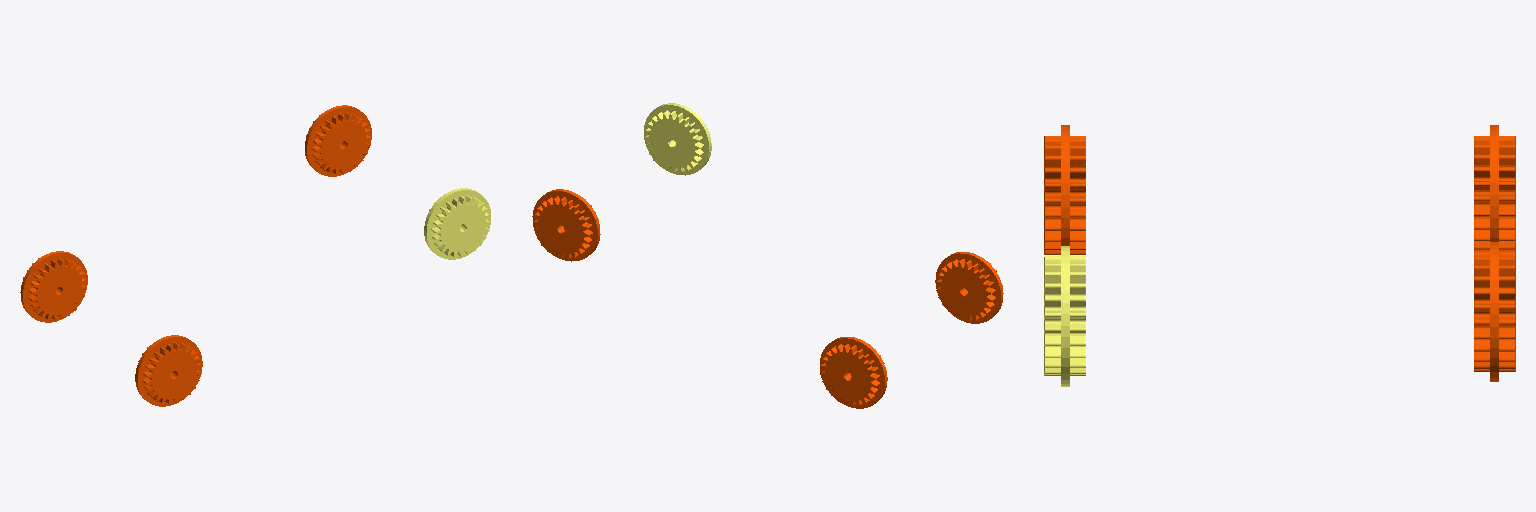
--- Facts derived from the render (not from the file) ---
The picture shows the robot from 3 angles, left to right: view 1: azimuth 30°, elevation 25°; view 2: azimuth 150°, elevation 25°; view 3: azimuth 270°, elevation 25°; orthographic projection.
Model drok3_description2 with 30 links and 29 joints (28 continuous, 1 fixed), rooted at base_link, posed every joint at zero.
Visible links, largest first — view 1: R1_link, L1_link, L3_link, R3_link; view 2: R3_link, L1_link, L3_link, R1_link; view 3: R3_link, L3_link, R1_link, L1_link.
Link boxes in pixels (x1=…): R1_link: x1=135, y1=335, x2=202, y2=406; L1_link: x1=20, y1=251, x2=87, y2=322; L3_link: x1=305, y1=105, x2=371, y2=176; R3_link: x1=424, y1=188, x2=490, y2=259; R3_link: x1=644, y1=103, x2=711, y2=175; L1_link: x1=820, y1=337, x2=887, y2=408; L3_link: x1=532, y1=189, x2=600, y2=261; R1_link: x1=935, y1=252, x2=1003, y2=323; R3_link: x1=1044, y1=246, x2=1085, y2=386; L3_link: x1=1474, y1=242, x2=1515, y2=381; R1_link: x1=1044, y1=125, x2=1085, y2=254; L1_link: x1=1474, y1=125, x2=1515, y2=252.
Bounding box of the posed robot: 0.9246 × 0.5694 × 0.3609 m (x, y, z).
Meshes: 7 distinct files referenced, 4 mesh visuals loaded (4 binary STL); not drawn: 3 (reference not matched to a file when rendering).

The robot description file, URDF, robot "drok3_description2":
<?xml version="1.0" encoding="utf-8"?>
<!-- This URDF was automatically created by SolidWorks to URDF Exporter! Originally created by Stephen Brawner ([email redacted]) 
     Commit Version: 1.6.0-1-g15f4949  Build Version: 1.6.7594.29634
     For more information, please see http://wiki.ros.org/sw_urdf_exporter -->
<robot
  name="drok3_description2">
  
  <link
    name="base_link">
    <inertial>
      <origin
        xyz="0.0916307721495936 -0.000335907486689213 0.0569327313017182"
        rpy="0 0 0" />
      <mass
        value="38.3049580066646" />
      <inertia
        ixx="0.189675133128325"
        ixy="-6.87158011192175E-05"
        ixz="-0.111395385918992"
        iyy="0.808757796453613"
        iyz="-7.34722853353462E-05"
        izz="0.813726568476578" />
    </inertial>
    <visual>
      <origin
        xyz="0 0 0"
        rpy="0 0 0" />
      <geometry>
        <mesh
          filename="package://drok3_description2/meshes/base_link.STL" />
      </geometry>
      <material
        name="">
        <color
          rgba="0.298039215686275 0.298039215686275 0.298039215686275 1" />
      </material>
    </visual>
    <!--<collision>
      <origin
        xyz="0 0 0"
        rpy="0 0 0" />
      <geometry>
        <mesh
          filename="package://drok3_description2/meshes/base_link.STL" />
      </geometry>
    </collision>-->
  </link>

  <link
    name="R1_link">
    <inertial>
      <origin
        xyz="-2.97278207574136E-06 0 -2.08206009358336E-06"
        rpy="0 0 0" />
      <mass
        value="0.697502716828587" />
      <inertia
        ixx="0.00107179989446096"
        ixy="-3.17556586931068E-18"
        ixz="-1.07013112858152E-08"
        iyy="0.00188983973588254"
        iyz="9.0339996868056E-19"
        izz="0.00107180767895577" />
    </inertial>
    <visual>
      <origin
        xyz="0 0 0"
        rpy="0 0 0" />
      <geometry>
        <mesh
          filename="package://drok3_description2/meshes/R1_link.STL" />
      </geometry>
      <material
        name="">
        <color
          rgba="1.0 0.4 0.0308039215686275 0" />
      </material>
    </visual>
    <collision>
      <origin
        xyz="0 0 0"
        rpy="0 0 0" />
      <geometry>
        <mesh
          filename="package://drok3_description2/meshes/R1_link.STL" />
      </geometry>
    </collision>
  </link>
  <joint
    name="R1_link_joint"
    type="continuous">
    <origin
      xyz="-0.27424 -0.25972 -0.028"
      rpy="0 0 0" />
    <parent
      link="base_link" />
    <child
      link="R1_link" />
    <axis
      xyz="0 1 0" />
  </joint>
  <link
    name="R2_link">
    <inertial>
      <origin
        xyz="-3.60518028585943E-06 0 -2.08206009358336E-06"
        rpy="0 0 0" />
      <mass
        value="0.697502716828588" />
      <inertia
        ixx="0.00107179270224566"
        ixy="-3.20129434385429E-18"
        ixz="-2.60812953021254E-09"
        iyy="0.00188983973588254"
        iyz="9.59223116284526E-19"
        izz="0.00107181487117107" />
    </inertial>
    <visual>
      <origin
        xyz="0 0 0"
        rpy="0 0 0" />
      <geometry>
        <mesh
          filename="package://drok3_description2/meshes/R2_link.STL" />
      </geometry>
      <material
        name="">
        <color
          rgba="1.0 0.4 0.0380039215686275 1" />
      </material>
    </visual>
    <collision>
      <origin
        xyz="0 0 0"
        rpy="0 0 0" />
      <geometry>
        <mesh
          filename="package://drok3_description2/meshes/R2_link.STL" />
      </geometry>
    </collision>
  </link>
  <joint
    name="R2_link_joint"
    type="continuous">
    <origin
      xyz="0.27576 -0.25972 -0.028"
      rpy="0 0 0" />
    <parent
      link="base_link" />
    <child
      link="R2_link" />
    <axis
      xyz="0 1 0" />
  </joint>
  <link
    name="R3_link">
    <inertial>
      <origin
        xyz="3.24700269704881E-06 -5.55111512312578E-17 1.62153661337205E-06"
        rpy="0 0 0" />
      <mass
        value="0.697502716828588" />
      <inertia
        ixx="0.00107179694558754"
        ixy="-3.07511556235849E-18"
        ixz="-9.10311589437715E-09"
        iyy="0.00188983973588254"
        iyz="7.7907126344076E-19"
        izz="0.00107181062782919" />
    </inertial>
    <visual>
      <origin
        xyz="0 0 0"
        rpy="0 0 0" />
      <geometry>
        <mesh
          filename="package://drok3_description2/meshes/R3_link.STL" />
      </geometry>
      <material
        name="">
        <color
          rgba="102 51 0.498039215686275 1" />
      </material>
    </visual>
    <collision>
      <origin
        xyz="0 0 0"
        rpy="0 0 0" />
      <geometry>
        <mesh
          filename="package://drok3_description2/meshes/R3_link.STL" />
      </geometry>
    </collision>
  </link>
  <joint
    name="R3_link_joint"
    type="continuous">
    <origin
      xyz="0.48054 -0.25972 0.16296"
      rpy="0 0 0" />
    <parent
      link="base_link" />
    <child
      link="R3_link" />
    <axis
      xyz="0 1 0" />
  </joint>
  <link
    name="L1_link">
    <inertial>
      <origin
        xyz="-3.60518028584556E-06 -1.11022302462516E-16 -2.08206009358336E-06"
        rpy="0 0 0" />
      <mass
        value="0.697502716828587" />
      <inertia
        ixx="0.00107179270224566"
        ixy="-3.16860373019229E-18"
        ixz="-2.6081295301747E-09"
        iyy="0.00188983973588254"
        iyz="7.92650267045416E-19"
        izz="0.00107181487117107" />
    </inertial>
    <visual>
      <origin
        xyz="0 0 0"
        rpy="0 0 0" />
      <geometry>
        <mesh
          filename="package://drok3_description2/meshes/L1_link.STL" />
      </geometry>
      <material
        name="">
        <color
          rgba="1.0 0.4 0.0308039215686275 1" />
      </material>
    </visual>
    <collision>
      <origin
        xyz="0 0 0"
        rpy="0 0 0" />
      <geometry>
        <mesh
          filename="package://drok3_description2/meshes/L1_link.STL" />
      </geometry>
    </collision>
  </link>
  <joint
    name="L1_link_joint"
    type="continuous">
    <origin
      xyz="-0.27424 0.25972 -0.028"
      rpy="0 0 0" />
    <parent
      link="base_link" />
    <child
      link="L1_link" />
    <axis
      xyz="0 1 0" />
  </joint>
  <link
    name="L2_link">
    <inertial>
      <origin
        xyz="-3.60518028585943E-06 -1.11022302462516E-16 -2.08206009358336E-06"
        rpy="0 0 0" />
      <mass
        value="0.697502716828589" />
      <inertia
        ixx="0.00107179270224566"
        ixy="-3.18775432759348E-18"
        ixz="-2.6081295302701E-09"
        iyy="0.00188983973588254"
        iyz="8.03792722455923E-19"
        izz="0.00107181487117107" />
    </inertial>
    <visual>
      <origin
        xyz="0 0 0"
        rpy="0 0 0" />
      <geometry>
        <mesh
          filename="package://drok3_description2/meshes/L2_link.STL" />
      </geometry>
      <material
        name="">
        <color
          rgba="1.0 0.4 0.0308039215686275 1" />
      </material>
    </visual>
    <collision>
      <origin
        xyz="0 0 0"
        rpy="0 0 0" />
      <geometry>
        <mesh
          filename="package://drok3_description2/meshes/L2_link.STL" />
      </geometry>
    </collision>
  </link>
  <joint
    name="L2_link_joint"
    type="continuous">
    <origin
      xyz="0.27576 0.25972 -0.028"
      rpy="0 0 0" />
    <parent
      link="base_link" />
    <child
      link="L2_link" />
    <axis
      xyz="0 1 0" />
  </joint>
  <link
    name="L3_link">
    <inertial>
      <origin
        xyz="-3.50122690040422E-06 -2.22044604925031E-16 9.55938123270439E-07"
        rpy="0 0 0" />
      <mass
        value="0.697502716828588" />
      <inertia
        ixx="0.00107179397947648"
        ixy="-3.27890477552922E-18"
        ixz="5.78669645348872E-09"
        iyy="0.00188983973588254"
        iyz="7.58660421249286E-19"
        izz="0.00107181359394025" />
    </inertial>
    <visual>
      <origin
        xyz="0 0 0"
        rpy="0 0 0" />
      <geometry>
        <mesh
          filename="package://drok3_description2/meshes/L3_link.STL" />
      </geometry>
      <material
        name="">
        <color
          rgba="1.0 0.4 0.0308039215686275 1" />
      </material>
    </visual>
    <collision>
      <origin
        xyz="0 0 0"
        rpy="0 0 0" />
      <geometry>
        <mesh
          filename="package://drok3_description2/meshes/L3_link.STL" />
      </geometry>
    </collision>
  </link>
  <joint
    name="L3_link_joint"
    type="continuous">
    <origin
      xyz="0.46841 0.25972 0.16296"
      rpy="0 0 0" />
    <parent
      link="base_link" />
    <child
      link="L3_link" />
    <axis
      xyz="0 1 0" />
  </joint>

<gazebo>
  <plugin name="skid_steer_drive_controller" filename="libgazebo_ros_skid_steer_drive.so">
    <updateRate>100.0</updateRate>
    <robotNamespace>/</robotNamespace>
    <leftFrontJoint>L2_link_joint</leftFrontJoint>
    <rightFrontJoint>R2_link_joint</rightFrontJoint>
    <leftRearJoint>L1_link_joint</leftRearJoint>
    <rightRearJoint>R1_link_joint</rightRearJoint>
    <wheelSeparation>0.55</wheelSeparation>
    <wheelDiameter>0.170</wheelDiameter>
    <robotBaseFrame>base_link</robotBaseFrame>
    <torque>10</torque>
    <topicName>cmd_vel</topicName>
    <broadcastTF>true</broadcastTF>
  </plugin>
</gazebo>

<gazebo>
  <plugin name="skid_steer_drive_controller" filename="libgazebo_ros_skid_steer_drive.so">
    <updateRate>100.0</updateRate>
    <robotNamespace>/</robotNamespace>
    <leftFrontJoint>l2_link_joint</leftFrontJoint>
    <rightFrontJoint>r2_link_joint</rightFrontJoint>
    <leftRearJoint>l1_link_joint</leftRearJoint>
    <rightRearJoint>r1_link_joint</rightRearJoint>
    <wheelSeparation>0.55</wheelSeparation>
    <wheelDiameter>0.170</wheelDiameter>
    <robotBaseFrame>base_link</robotBaseFrame>
    <torque>10</torque>
    <topicName>cmd_vel</topicName>
    <broadcastTF>false</broadcastTF>
  </plugin>
</gazebo>

<gazebo>
  <plugin name="skid_steer_drive_controller" filename="libgazebo_ros_skid_steer_drive.so">
    <updateRate>100.0</updateRate>
    <robotNamespace>/</robotNamespace>
    <leftFrontJoint>L3_link_joint</leftFrontJoint>
    <rightFrontJoint>R3_link_joint</rightFrontJoint>
    <leftRearJoint>l4_link_joint</leftRearJoint>
    <rightRearJoint>r4_link_joint</rightRearJoint>
    <wheelSeparation>0.55</wheelSeparation>
    <wheelDiameter>0.170</wheelDiameter>
    <robotBaseFrame>base_link</robotBaseFrame>
    <torque>10</torque>
    <topicName>cmd_vel</topicName>
    <broadcastTF>false</broadcastTF>
  </plugin>
</gazebo>
<gazebo>
  <plugin name="skid_steer_drive_controller" filename="libgazebo_ros_skid_steer_drive.so">
    <updateRate>100.0</updateRate>
    <robotNamespace>/</robotNamespace>
    <leftFrontJoint>l6_link_joint</leftFrontJoint>
    <rightFrontJoint>r6_link_joint</rightFrontJoint>
    <leftRearJoint>l5_link_joint</leftRearJoint>
    <rightRearJoint>r5_link_joint</rightRearJoint>
    <wheelSeparation>0.55</wheelSeparation>
    <wheelDiameter>0.170</wheelDiameter>
    <robotBaseFrame>base_link</robotBaseFrame>
    <torque>10</torque>
    <topicName>cmd_vel</topicName>
    <broadcastTF>false</broadcastTF>
  </plugin>
</gazebo>
<gazebo>
  <plugin name="skid_steer_drive_controller" filename="libgazebo_ros_skid_steer_drive.so">
    <updateRate>100.0</updateRate>
    <robotNamespace>/</robotNamespace>
    <leftFrontJoint>l7_link_joint</leftFrontJoint>
    <rightFrontJoint>r7_link_joint</rightFrontJoint>
    <leftRearJoint>l8_link_joint</leftRearJoint>
    <rightRearJoint>r8_link_joint</rightRearJoint>
    <wheelSeparation>0.55</wheelSeparation>
    <wheelDiameter>0.170</wheelDiameter>
    <robotBaseFrame>base_link</robotBaseFrame>
    <torque>10</torque>
    <topicName>cmd_vel</topicName>
    <broadcastTF>false</broadcastTF>
  </plugin>
</gazebo>

<gazebo>
  <plugin name="skid_steer_drive_controller" filename="libgazebo_ros_skid_steer_drive.so">
    <updateRate>100.0</updateRate>
    <robotNamespace>/</robotNamespace>
    <leftFrontJoint>l9_link_joint</leftFrontJoint>
    <rightFrontJoint>r9_link_joint</rightFrontJoint>
    <leftRearJoint>l10_link_joint</leftRearJoint>
    <rightRearJoint>r10_link_joint</rightRearJoint>
    <wheelSeparation>0.55</wheelSeparation>
    <wheelDiameter>0.170</wheelDiameter>
    <robotBaseFrame>base_link</robotBaseFrame>
    <torque>10</torque>
    <topicName>cmd_vel</topicName>
    <broadcastTF>false</broadcastTF>
  </plugin>
</gazebo>


<gazebo>
  <plugin name="skid_steer_drive_controller" filename="libgazebo_ros_skid_steer_drive.so">
    <updateRate>100.0</updateRate>
    <robotNamespace>/</robotNamespace>
    <leftFrontJoint>l12_link_joint</leftFrontJoint>
    <rightFrontJoint>r12_link_joint</rightFrontJoint>
    <leftRearJoint>l11_link_joint</leftRearJoint>
    <rightRearJoint>r11_link_joint</rightRearJoint>
    <wheelSeparation>0.55</wheelSeparation>
    <wheelDiameter>0.170</wheelDiameter>
    <robotBaseFrame>base_link</robotBaseFrame>
    <torque>10</torque>
    <topicName>cmd_vel</topicName>
    <broadcastTF>false</broadcastTF>
  </plugin>
</gazebo>












 <link
    name="r1_link">
    <inertial>
      <origin
        xyz="-2.77278207574136E-06 0 -2.08206009358336E-06"
        rpy="0 0 0" />
      <mass
        value="0.697502716828587" />
      <inertia
        ixx="0.00107179989446096"
        ixy="-3.17556586931068E-18"
        ixz="-1.07013112858152E-08"
        iyy="0.00188983973588254"
        iyz="9.0339996868056E-19"
        izz="0.00107180767895577" />
    </inertial>
    <!--<visual>
      <origin
        xyz="0 0 0"
        rpy="0 0 0" />
      <geometry>
        <mesh
          filename="package://drok3_description2/meshes/R1_link.STL" />
      </geometry>
      <material
        name="red">
        <color
          rgba="1.0 1.0 0.0308039215686275 0" />
      </material>
    </visual>-->
    <collision>
      <origin
        xyz="0 0 0"
        rpy="0 0 0" />
      <geometry>
        <mesh
          filename="package://drok3_description2/meshes/R1_link.STL" />
      </geometry>
    </collision>
  </link>
  <joint
    name="r1_link_joint"
    type="continuous">
    <origin
      xyz="-0.07424 -0.25972 -0.028"
      rpy="0 0 0" />
    <parent
      link="base_link" />
    <child
      link="r1_link" />
    <axis
      xyz="0 1 0" />
  </joint>

<link
    name="r2_link">
    <inertial>
      <origin
        xyz="-2.57278207574136E-06 0 -2.08206009358336E-06"
        rpy="0 0 0" />
      <mass
        value="0.697502716828587" />
      <inertia
        ixx="0.00107179989446096"
        ixy="-3.17556586931068E-18"
        ixz="-1.07013112858152E-08"
        iyy="0.00188983973588254"
        iyz="9.0339996868056E-19"
        izz="0.00107180767895577" />
    </inertial>
    <!--<visual>
      <origin
        xyz="0 0 0"
        rpy="0 0 0" />
      <geometry>
        <mesh
          filename="package://drok3_description2/meshes/R1_link.STL" />
      </geometry>
      <material
        name="">
        <color
          rgba="1.0 0.4 0.0308039215686275 1" />
      </material>
    </visual>-->
    <collision>
      <origin
        xyz="0 0 0"
        rpy="0 0 0" />
      <geometry>
        <mesh
          filename="package://drok3_description2/meshes/R1_link.STL" />
      </geometry>
    </collision>
  </link>
  <joint
    name="r2_link_joint"
    type="continuous">
    <origin
      xyz="0.12576 -0.25972 -0.028"
      rpy="0 0 0" />
    <parent
      link="base_link" />
    <child
      link="r2_link" />
    <axis
      xyz="0 1 0" />
  </joint>








<link
    name="l1_link">
    <inertial>
      <origin
        xyz="-3.40518028584556E-06 -1.11022302462516E-16 -2.08206009358336E-06"
        rpy="0 0 0" />
      <mass
        value="0.697502716828587" />
      <inertia
        ixx="0.00107179270224566"
        ixy="-3.16860373019229E-18"
        ixz="-2.6081295301747E-09"
        iyy="0.00188983973588254"
        iyz="7.92650267045416E-19"
        izz="0.00107181487117107" />
    </inertial>
    <!--<visual>
      <origin
        xyz="0 0 0"
        rpy="0 0 0" />
      <geometry>
        <mesh
          filename="package://drok3_description2/meshes/L1_link.STL" />
      </geometry>
      <material
        name="">
        <color
          rgba="1.0 0.4 0.0308039215686275 0" />
      </material>
    </visual>-->
    <collision>
      <origin
        xyz="0 0 0"
        rpy="0 0 0" />
      <geometry>
        <mesh
          filename="package://drok3_description2/meshes/L1_link.STL" />
      </geometry>
    </collision>
  </link>
  <joint
    name="l1_link_joint"
    type="continuous">
    <origin
      xyz="-0.07424 0.25972 -0.028"
      rpy="0 0 0" />
    <parent
      link="base_link" />
    <child
      link="l1_link" />
    <axis
      xyz="0 1 0" />
  </joint>

<link
    name="l2_link">
    <inertial>
      <origin
        xyz="-3.20518028584556E-06 -1.11022302462516E-16 -2.08206009358336E-06"
        rpy="0 0 0" />
      <mass
        value="0.697502716828587" />
      <inertia
        ixx="0.00107179270224566"
        ixy="-3.16860373019229E-18"
        ixz="-2.6081295301747E-09"
        iyy="0.00188983973588254"
        iyz="7.92650267045416E-19"
        izz="0.00107181487117107" />
    </inertial>
    <!--<visual>
      <origin
        xyz="0 0 0"
        rpy="0 0 0" />
      <geometry>
        <mesh
          filename="package://drok3_description2/meshes/L1_link.STL" />
      </geometry>
      <material
        name="">
        <color
          rgba="1.0 0.4 0.0308039215686275 0" />
      </material>
    </visual>-->
    <collision>
      <origin
        xyz="0 0 0"
        rpy="0 0 0" />
      <geometry>
        <mesh
          filename="package://drok3_description2/meshes/L1_link.STL" />
      </geometry>
    </collision>
  </link>
  <joint
    name="l2_link_joint"
    type="continuous">
    <origin
      xyz="0.12576 0.25972 -0.028"
      rpy="0 0 0" />
    <parent
      link="base_link" />
    <child
      link="l2_link" />
    <axis
      xyz="0 1 0" />
  </joint>








<link
    name="r4_link">
    <inertial>
      <origin
        xyz="-3.49518028585943E-06 0 -4.08428738963028E-07"
        rpy="0 0 0" />
      <mass
        value="0.697502716828588" />
      <inertia
        ixx="0.00107179270224566"
        ixy="-3.20129434385429E-18"
        ixz="-2.60812953021254E-09"
        iyy="0.00188983973588254"
        iyz="9.59223116284526E-19"
        izz="0.00107181487117107" />
    </inertial>
    <!--<visual>
      <origin
        xyz="0 0 0"
        rpy="0 0 0" />
      <geometry>
        <mesh
          filename="package://drok3_description2/meshes/R2_link.STL" />
      </geometry>
      <material
        name="">
        <color
          rgba="1.0 0.4 0.0380039215686275 0" />
      </material>
    </visual>-->
    <collision>
      <origin
        xyz="0 0 0"
        rpy="0 0 0" />
      <geometry>
        <mesh
          filename="package://drok3_description2/meshes/R2_link.STL" />
      </geometry>
    </collision>
  </link>
  <joint
    name="r4_link_joint"
    type="continuous">
    <origin
      xyz="0.38576 -0.25972 0.072"
      rpy="0 0 0" />
    <parent
      link="base_link" />
    <child
      link="r4_link" />
    <axis
      xyz="0 1 0" />
  </joint>




<link
    name="l4_link">
    <inertial>
      <origin
        xyz="-3.49518028585943E-06 -1.11022302462516E-16 -4.0842873894915E-07"
        rpy="0 0 0" />
      <mass
        value="0.697502716828589" />
      <inertia
        ixx="0.00107179270224566"
        ixy="-3.18775432759348E-18"
        ixz="-2.6081295302701E-09"
        iyy="0.00188983973588254"
        iyz="8.03792722455923E-19"
        izz="0.00107181487117107" />
    </inertial>
    <!--<visual>
      <origin
        xyz="0 0 0"
        rpy="0 0 0" />
      <geometry>
        <mesh
          filename="package://drok3_description2/meshes/L2_link.STL" />
      </geometry>
      <material
        name="">
        <color
          rgba="1.0 0.4 0.0308039215686275 1" />
      </material>
    </visual>-->
    <collision>
      <origin
        xyz="0 0 0"
        rpy="0 0 0" />
      <geometry>
        <mesh
          filename="package://drok3_description2/meshes/L2_link.STL" />
      </geometry>
    </collision>
  </link>
  <joint
    name="l4_link_joint"
    type="continuous">
    <origin
      xyz="0.38576 0.25972 0.072"
      rpy="0 0 0" />
    <parent
      link="base_link" />
    <child
      link="l4_link" />
    <axis
      xyz="0 1 0" />
  </joint>






<link
    name="r5_link">
    <inertial>
      <origin
        xyz="-3.54518028585943E-06 0 -4.13428738963028E-07"
        rpy="0 0 0" />
      <mass
        value="0.697502716828588" />
      <inertia
        ixx="0.00107179270224566"
        ixy="-3.20129434385429E-18"
        ixz="-2.60812953021254E-09"
        iyy="0.00188983973588254"
        iyz="9.59223116284526E-19"
        izz="0.00107181487117107" />
    </inertial>
    <!--<visual>
      <origin
        xyz="0 0 0"
        rpy="0 0 0" />
      <geometry>
        <mesh
          filename="package://drok3_description2/meshes/R2_link.STL" />
      </geometry>
      <material
        name="">
        <color
          rgba="1.0 0.4 0.0380039215686275 1" />
      </material>
    </visual>-->
    <collision>
      <origin
        xyz="0 0 0"
        rpy="0 0 0" />
      <geometry>
        <mesh
          filename="package://drok3_description2/meshes/R2_link.STL" />
      </geometry>
    </collision>
  </link>
  <joint
    name="r5_link_joint"
    type="continuous">
    <origin
      xyz="0.33576 -0.25972 0.022"
      rpy="0 0 0" />
    <parent
      link="base_link" />
    <child
      link="r5_link" />
    <axis
      xyz="0 1 0" />
  </joint>




<link
    name="l5_link">
    <inertial>
      <origin
        xyz="-3.54518028585943E-06 -1.11022302462516E-16 -4.1342873894915E-07"
        rpy="0 0 0" />
      <mass
        value="0.697502716828589" />
      <inertia
        ixx="0.00107179270224566"
        ixy="-3.18775432759348E-18"
        ixz="-2.6081295302701E-09"
        iyy="0.00188983973588254"
        iyz="8.03792722455923E-19"
        izz="0.00107181487117107" />
    </inertial>
    <!--<visual>
      <origin
        xyz="0 0 0"
        rpy="0 0 0" />
      <geometry>
        <mesh
          filename="package://drok3_description2/meshes/L2_link.STL" />
      </geometry>
      <material
        name="">
        <color
          rgba="1.0 0.4 0.0308039215686275 1" />
      </material>
    </visual>-->
    <collision>
      <origin
        xyz="0 0 0"
        rpy="0 0 0" />
      <geometry>
        <mesh
          filename="package://drok3_description2/meshes/L2_link.STL" />
      </geometry>
    </collision>
  </link>
  <joint
    name="l5_link_joint"
    type="continuous">
    <origin
      xyz="0.33576 0.25972 0.022"
      rpy="0 0 0" />
    <parent
      link="base_link" />
    <child
      link="l5_link" />
    <axis
      xyz="0 1 0" />
  </joint>


<link
    name="r6_link">
    <inertial>
      <origin
        xyz="-3.44518028585943E-06 0 -4.03428738963028E-07"
        rpy="0 0 0" />
      <mass
        value="0.697502716828588" />
      <inertia
        ixx="0.00107179270224566"
        ixy="-3.20129434385429E-18"
        ixz="-2.60812953021254E-09"
        iyy="0.00188983973588254"
        iyz="9.59223116284526E-19"
        izz="0.00107181487117107" />
    </inertial>
    <!--<visual>
      <origin
        xyz="0 0 0"
        rpy="0 0 0" />
      <geometry>
        <mesh
          filename="package://drok3_description2/meshes/R2_link.STL" />
      </geometry>
      <material
        name="">
        <color
          rgba="1.0 0.4 0.0380039215686275 1" />
      </material>
    </visual>-->
    <collision>
      <origin
        xyz="0 0 0"
        rpy="0 0 0" />
      <geometry>
        <mesh
          filename="package://drok3_description2/meshes/R2_link.STL" />
      </geometry>
    </collision>
  </link>
  <joint
    name="r6_link_joint"
    type="continuous">
    <origin
      xyz="0.43576 -0.25972 0.122"
      rpy="0 0 0" />
    <parent
      link="base_link" />
    <child
      link="r6_link" />
    <axis
      xyz="0 1 0" />
  </joint>




<link
    name="l6_link">
    <inertial>
      <origin
        xyz="-3.44518028585943E-06 -1.11022302462516E-16 -4.0342873894915E-07"
        rpy="0 0 0" />
      <mass
        value="0.697502716828589" />
      <inertia
        ixx="0.00107179270224566"
        ixy="-3.18775432759348E-18"
        ixz="-2.6081295302701E-09"
        iyy="0.00188983973588254"
        iyz="8.03792722455923E-19"
        izz="0.00107181487117107" />
    </inertial>
    <!--<visual>
      <origin
        xyz="0 0 0"
        rpy="0 0 0" />
      <geometry>
        <mesh
          filename="package://drok3_description2/meshes/L2_link.STL" />
      </geometry>
      <material
        name="">
        <color
          rgba="1.0 0.4 0.0308039215686275 1" />
      </material>
    </visual>-->
    <collision>
      <origin
        xyz="0 0 0"
        rpy="0 0 0" />
      <geometry>
        <mesh
          filename="package://drok3_description2/meshes/L2_link.STL" />
      </geometry>
    </collision>
  </link>
  <joint
    name="l6_link_joint"
    type="continuous">
    <origin
      xyz="0.43576 0.25972 0.122"
      rpy="0 0 0" />
    <parent
      link="base_link" />
    <child
      link="l6_link" />
    <axis
      xyz="0 1 0" />
  </joint>




<link
    name="r7_link">
    <inertial>
      <origin
        xyz="-2.72278207574136E-06 0 -2.08206009358336E-06"
        rpy="0 0 0" />
      <mass
        value="0.697502716828587" />
      <inertia
        ixx="0.00107179989446096"
        ixy="-3.17556586931068E-18"
        ixz="-1.07013112858152E-08"
        iyy="0.00188983973588254"
        iyz="9.0339996868056E-19"
        izz="0.00107180767895577" />
    </inertial>
    <!--<visual>
      <origin
        xyz="0 0 0"
        rpy="0 0 0" />
      <geometry>
        <mesh
          filename="package://drok3_description2/meshes/R1_link.STL" />
      </geometry>
      <material
        name="red">
        <color
          rgba="1.0 1.0 0.0308039215686275 0" />
      </material>
    </visual>-->
    <collision>
      <origin
        xyz="0 0 0"
        rpy="0 0 0" />
      <geometry>
        <mesh
          filename="package://drok3_description2/meshes/R1_link.STL" />
      </geometry>
    </collision>
  </link>
  <joint
    name="r7_link_joint"
    type="continuous">
    <origin
      xyz="-0.02424 -0.25972 -0.028"
      rpy="0 0 0" />
    <parent
      link="base_link" />
    <child
      link="r7_link" />
    <axis
      xyz="0 1 0" />
  </joint>

<link
    name="r8_link">
    <inertial>
      <origin
        xyz="-2.82278207574136E-06 0 -2.08206009358336E-06"
        rpy="0 0 0" />
      <mass
        value="0.697502716828587" />
      <inertia
        ixx="0.00107179989446096"
        ixy="-3.17556586931068E-18"
        ixz="-1.07013112858152E-08"
        iyy="0.00188983973588254"
        iyz="9.0339996868056E-19"
        izz="0.00107180767895577" />
    </inertial>
    <!--<visual>
      <origin
        xyz="0 0 0"
        rpy="0 0 0" />
      <geometry>
        <mesh
          filename="package://drok3_description2/meshes/R1_link.STL" />
      </geometry>
      <material
        name="red">
        <color
          rgba="1.0 1.0 0.0308039215686275 0" />
      </material>
    </visual>-->
    <collision>
      <origin
        xyz="0 0 0"
        rpy="0 0 0" />
      <geometry>
        <mesh
          filename="package://drok3_description2/meshes/R1_link.STL" />
      </geometry>
    </collision>
  </link>
  <joint
    name="r8_link_joint"
    type="continuous">
    <origin
      xyz="-0.12424 -0.25972 -0.028"
      rpy="0 0 0" />
    <parent
      link="base_link" />
    <child
      link="r8_link" />
    <axis
      xyz="0 1 0" />
  </joint>


<link
    name="l7_link">
    <inertial>
      <origin
        xyz="-3.35518028584556E-06 -1.11022302462516E-16 -2.08206009358336E-06"
        rpy="0 0 0" />
      <mass
        value="0.697502716828587" />
      <inertia
        ixx="0.00107179270224566"
        ixy="-3.16860373019229E-18"
        ixz="-2.6081295301747E-09"
        iyy="0.00188983973588254"
        iyz="7.92650267045416E-19"
        izz="0.00107181487117107" />
    </inertial>
    <!--<visual>
      <origin
        xyz="0 0 0"
        rpy="0 0 0" />
      <geometry>
        <mesh
          filename="package://drok3_description2/meshes/L1_link.STL" />
      </geometry>
      <material
        name="">
        <color
          rgba="1.0 0.4 0.0308039215686275 0" />
      </material>
    </visual>-->
    <collision>
      <origin
        xyz="0 0 0"
        rpy="0 0 0" />
      <geometry>
        <mesh
          filename="package://drok3_description2/meshes/L1_link.STL" />
      </geometry>
    </collision>
  </link>
  <joint
    name="l7_link_joint"
    type="continuous">
    <origin
      xyz="-0.02424 0.25972 -0.028"
      rpy="0 0 0" />
    <parent
      link="base_link" />
    <child
      link="l7_link" />
    <axis
      xyz="0 1 0" />
  </joint>




<link
    name="l8_link">
    <inertial>
      <origin
        xyz="-3.40518028584556E-06 -1.11022302462516E-16 -2.08206009358336E-06"
        rpy="0 0 0" />
      <mass
        value="0.697502716828587" />
      <inertia
        ixx="0.00107179270224566"
        ixy="-3.16860373019229E-18"
        ixz="-2.6081295301747E-09"
        iyy="0.00188983973588254"
        iyz="7.92650267045416E-19"
        izz="0.00107181487117107" />
    </inertial>
    <!--<visual>
      <origin
        xyz="0 0 0"
        rpy="0 0 0" />
      <geometry>
        <mesh
          filename="package://drok3_description2/meshes/L1_link.STL" />
      </geometry>
      <material
        name="">
        <color
          rgba="1.0 0.4 0.0308039215686275 0" />
      </material>
    </visual>-->
    <collision>
      <origin
        xyz="0 0 0"
        rpy="0 0 0" />
      <geometry>
        <mesh
          filename="package://drok3_description2/meshes/L1_link.STL" />
      </geometry>
    </collision>
  </link>
  <joint
    name="l8_link_joint"
    type="continuous">
    <origin
      xyz="-0.12424 0.25972 -0.028"
      rpy="0 0 0" />
    <parent
      link="base_link" />
    <child
      link="l8_link" />
    <axis
      xyz="0 1 0" />
  </joint>




<link
    name="r9_link">
    <inertial>
      <origin
        xyz="-2.52278207574136E-06 0 -2.08206009358336E-06"
        rpy="0 0 0" />
      <mass
        value="0.697502716828587" />
      <inertia
        ixx="0.00107179989446096"
        ixy="-3.17556586931068E-18"
        ixz="-1.07013112858152E-08"
        iyy="0.00188983973588254"
        iyz="9.0339996868056E-19"
        izz="0.00107180767895577" />
    </inertial>
    <!--<visual>
      <origin
        xyz="0 0 0"
        rpy="0 0 0" />
      <geometry>
        <mesh
          filename="package://drok3_description2/meshes/R1_link.STL" />
      </geometry>
      <material
        name="">
        <color
          rgba="1.0 0.4 0.0308039215686275 1" />
      </material>
    </visual>-->
    <collision>
      <origin
        xyz="0 0 0"
        rpy="0 0 0" />
      <geometry>
        <mesh
          filename="package://drok3_description2/meshes/R1_link.STL" />
      </geometry>
    </collision>
  </link>
  <joint
    name="r9_link_joint"
    type="continuous">
    <origin
      xyz="0.17576 -0.25972 -0.028"
      rpy="0 0 0" />
    <parent
      link="base_link" />
    <child
      link="r9_link" />
    <axis
      xyz="0 1 0" />
  </joint>

<link
    name="r10_link">
    <inertial>
      <origin
        xyz="-2.62278207574136E-06 0 -2.08206009358336E-06"
        rpy="0 0 0" />
      <mass
        value="0.697502716828587" />
      <inertia
        ixx="0.00107179989446096"
        ixy="-3.17556586931068E-18"
        ixz="-1.07013112858152E-08"
        iyy="0.00188983973588254"
        iyz="9.0339996868056E-19"
        izz="0.00107180767895577" />
    </inertial>
    <!--<visual>
      <origin
        xyz="0 0 0"
        rpy="0 0 0" />
      <geometry>
        <mesh
          filename="package://drok3_description2/meshes/R1_link.STL" />
      </geometry>
      <material
        name="">
        <color
          rgba="1.0 0.4 0.0308039215686275 1" />
      </material>
    </visual>-->
    <collision>
      <origin
        xyz="0 0 0"
        rpy="0 0 0" />
      <geometry>
        <mesh
          filename="package://drok3_description2/meshes/R1_link.STL" />
      </geometry>
    </collision>
  </link>
  <joint
    name="r10_link_joint"
    type="continuous">
    <origin
      xyz="0.07576 -0.25972 -0.028"
      rpy="0 0 0" />
    <parent
      link="base_link" />
    <child
      link="r10_link" />
    <axis
      xyz="0 1 0" />
  </joint>




<link
    name="l9_link">
    <inertial>
      <origin
        xyz="-3.15518028584556E-06 -1.11022302462516E-16 -2.08206009358336E-06"
        rpy="0 0 0" />
      <mass
        value="0.697502716828587" />
      <inertia
        ixx="0.00107179270224566"
        ixy="-3.16860373019229E-18"
        ixz="-2.6081295301747E-09"
        iyy="0.00188983973588254"
        iyz="7.92650267045416E-19"
        izz="0.00107181487117107" />
    </inertial>
    <!--<visual>
      <origin
        xyz="0 0 0"
        rpy="0 0 0" />
      <geometry>
        <mesh
          filename="package://drok3_description2/meshes/L1_link.STL" />
      </geometry>
      <material
        name="">
        <color
          rgba="1.0 0.4 0.0308039215686275 0" />
      </material>
    </visual>-->
    <collision>
      <origin
        xyz="0 0 0"
        rpy="0 0 0" />
      <geometry>
        <mesh
          filename="package://drok3_description2/meshes/L1_link.STL" />
      </geometry>
    </collision>
  </link>
  <joint
    name="l9_link_joint"
    type="continuous">
    <origin
      xyz="0.17576 0.25972 -0.028"
      rpy="0 0 0" />
    <parent
      link="base_link" />
    <child
      link="l9_link" />
    <axis
      xyz="0 1 0" />
  </joint>



<link
    name="l10_link">
    <inertial>
      <origin
        xyz="-3.25518028584556E-06 -1.11022302462516E-16 -2.08206009358336E-06"
        rpy="0 0 0" />
      <mass
        value="0.697502716828587" />
      <inertia
        ixx="0.00107179270224566"
        ixy="-3.16860373019229E-18"
        ixz="-2.6081295301747E-09"
        iyy="0.00188983973588254"
        iyz="7.92650267045416E-19"
        izz="0.00107181487117107" />
    </inertial>
    <!--<visual>
      <origin
        xyz="0 0 0"
        rpy="0 0 0" />
      <geometry>
        <mesh
          filename="package://drok3_description2/meshes/L1_link.STL" />
      </geometry>
      <material
        name="">
        <color
          rgba="1.0 0.4 0.0308039215686275 0" />
      </material>
    </visual>-->
    <collision>
      <origin
        xyz="0 0 0"
        rpy="0 0 0" />
      <geometry>
        <mesh
          filename="package://drok3_description2/meshes/L1_link.STL" />
      </geometry>
    </collision>
  </link>
  <joint
    name="l10_link_joint"
    type="continuous">
    <origin
      xyz="0.07576 0.25972 -0.028"
      rpy="0 0 0" />
    <parent
      link="base_link" />
    <child
      link="l10_link" />
    <axis
      xyz="0 1 0" />
  </joint>


<link
    name="r11_link">
    <inertial>
      <origin
        xyz="-2.92278207574136E-06 0 -2.08206009358336E-06"
        rpy="0 0 0" />
      <mass
        value="0.697502716828587" />
      <inertia
        ixx="0.00107179989446096"
        ixy="-3.17556586931068E-18"
        ixz="-1.07013112858152E-08"
        iyy="0.00188983973588254"
        iyz="9.0339996868056E-19"
        izz="0.00107180767895577" />
    </inertial>
    <!--<visual>
      <origin
        xyz="0 0 0"
        rpy="0 0 0" />
      <geometry>
        <mesh
          filename="package://drok3_description2/meshes/R1_link.STL" />
      </geometry>
      <material
        name="">
        <color
          rgba="1.0 0.4 0.0308039215686275 0" />
      </material>
    </visual>-->
    <collision>
      <origin
        xyz="0 0 0"
        rpy="0 0 0" />
      <geometry>
        <mesh
          filename="package://drok3_description2/meshes/R1_link.STL" />
      </geometry>
    </collision>
  </link>
  <joint
    name="r11_link_joint"
    type="continuous">
    <origin
      xyz="-0.22424 -0.25972 -0.028"
      rpy="0 0 0" />
    <parent
      link="base_link" />
    <child
      link="r11_link" />
    <axis
      xyz="0 1 0" />
  </joint>


<link
    name="r12_link">
    <inertial>
      <origin
        xyz="-3.65518028585943E-06 0 -4.18428738963028E-07"
        rpy="0 0 0" />
      <mass
        value="0.697502716828588" />
      <inertia
        ixx="0.00107179270224566"
        ixy="-3.20129434385429E-18"
        ixz="-2.60812953021254E-09"
        iyy="0.00188983973588254"
        iyz="9.59223116284526E-19"
        izz="0.00107181487117107" />
    </inertial>
    <!--<visual>
      <origin
        xyz="0 0 0"
        rpy="0 0 0" />
      <geometry>
        <mesh
          filename="package://drok3_description2/meshes/R2_link.STL" />
      </geometry>
      <material
        name="">
        <color
          rgba="1.0 0.4 0.0380039215686275 1" />
      </material>
    </visual>-->
    <collision>
      <origin
        xyz="0 0 0"
        rpy="0 0 0" />
      <geometry>
        <mesh
          filename="package://drok3_description2/meshes/R2_link.STL" />
      </geometry>
    </collision>
  </link>
  <joint
    name="r12_link_joint"
    type="continuous">
    <origin
      xyz="0.22576 -0.25972 -0.028"
      rpy="0 0 0" />
    <parent
      link="base_link" />
    <child
      link="r12_link" />
    <axis
      xyz="0 1 0" />
  </joint>




<link
    name="l11_link">
    <inertial>
      <origin
        xyz="-3.55518028584556E-06 -1.11022302462516E-16 -2.08206009358336E-06"
        rpy="0 0 0" />
      <mass
        value="0.697502716828587" />
      <inertia
        ixx="0.00107179270224566"
        ixy="-3.16860373019229E-18"
        ixz="-2.6081295301747E-09"
        iyy="0.00188983973588254"
        iyz="7.92650267045416E-19"
        izz="0.00107181487117107" />
    </inertial>
    <!--<visual>
      <origin
        xyz="0 0 0"
        rpy="0 0 0" />
      <geometry>
        <mesh
          filename="package://drok3_description2/meshes/L1_link.STL" />
      </geometry>
      <material
        name="">
        <color
          rgba="1.0 0.4 0.0308039215686275 1" />
      </material>
    </visual>-->
    <collision>
      <origin
        xyz="0 0 0"
        rpy="0 0 0" />
      <geometry>
        <mesh
          filename="package://drok3_description2/meshes/L1_link.STL" />
      </geometry>
    </collision>
  </link>
  <joint
    name="l11_link_joint"
    type="continuous">
    <origin
      xyz="-0.22424 0.25972 -0.028"
      rpy="0 0 0" />
    <parent
      link="base_link" />
    <child
      link="l11_link" />
    <axis
      xyz="0 1 0" />
  </joint>


<link
    name="l12_link">
    <inertial>
      <origin
        xyz="-3.65518028585943E-06 -1.11022302462516E-16 -4.1842873894915E-07"
        rpy="0 0 0" />
      <mass
        value="0.697502716828589" />
      <inertia
        ixx="0.00107179270224566"
        ixy="-3.18775432759348E-18"
        ixz="-2.6081295302701E-09"
        iyy="0.00188983973588254"
        iyz="8.03792722455923E-19"
        izz="0.00107181487117107" />
    </inertial>
    <!--<visual>
      <origin
        xyz="0 0 0"
        rpy="0 0 0" />
      <geometry>
        <mesh
          filename="package://drok3_description2/meshes/L2_link.STL" />
      </geometry>
      <material
        name="">
        <color
          rgba="1.0 0.4 0.0308039215686275 1" />
      </material>
    </visual>-->
    <collision>
      <origin
        xyz="0 0 0"
        rpy="0 0 0" />
      <geometry>
        <mesh
          filename="package://drok3_description2/meshes/L2_link.STL" />
      </geometry>
    </collision>
  </link>
  <joint
    name="l12_link_joint"
    type="continuous">
    <origin
      xyz="0.22576 0.25972 -0.028"
      rpy="0 0 0" />
    <parent
      link="base_link" />
    <child
      link="l12_link" />
    <axis
      xyz="0 1 0" />
  </joint>


<gazebo reference="base_link">
    <gravity>true</gravity>
    <sensor name="imu_sensor" type="imu">
      <always_on>true</always_on>
      <update_rate>100</update_rate>
      <visualize>true</visualize>
      <topic>__default_topic__</topic>
      <plugin filename="libgazebo_ros_imu_sensor.so" name="imu_plugin">
        <topicName>imu</topicName>
        <bodyName>base_link</bodyName>
        <updateRateHZ>100.0</updateRateHZ>
        <gaussianNoise>0.0</gaussianNoise>
        <xyzOffset>0 0 0</xyzOffset>
        <rpyOffset>0 0 0</rpyOffset>
        <frameName>base_link</frameName>
        <initialOrientationAsReference>false</initialOrientationAsReference>
      </plugin>
      <pose>0 0 0 0 0 0</pose>
    </sensor>
  </gazebo>





  <joint name="lidar_joint" type="fixed">
    <axis xyz="0 1 0" />
    <origin xyz="0.5 -0.000335907486689213 0.0569327313017182" rpy="0 0 0"/>
    <parent link="base_link"/>
    <child link="lidar_link"/>
  </joint>

<link
    name="lidar_link">
    <inertial>
      <origin
        xyz="0.5 -0.000335907486689213 0.0569327313017182"
        rpy="0 0 0" />
      <mass

        value="0.5" />
      <inertia ixx="1e-6" ixy="0" ixz="0" iyy="1e-6" iyz="0" izz="1e-6" />
    </inertial>
    <!--<visual>
      <origin
        xyz="0 0 0"
        rpy="0 0 0" />
      <geometry>
        <mesh
          filename="package://drok3_description2/meshes/base_link.STL" />
      </geometry>
      <material
        name="">
        <color
          rgba="0.298039215686275 0.298039215686275 0.298039215686275 1" />
      </material>
    </visual>-->
    <!--<collision>
      <origin
        xyz="0 0 0"
        rpy="0 0 0" />

      <geometry>
        <mesh
          filename="package://drok3_description2/meshes/base_link.STL" />
      </geometry>
    </collision>-->
  </link>

   <!-- hokuyo -->
  <gazebo reference="lidar_link">
    <sensor type="ray" name="head_hokuyo_sensor">
      <pose>0 0 0 0 0 0</pose>
      <visualize>true</visualize>
      <update_rate>100</update_rate>
      <ray>
        <scan>
          <horizontal>
            <samples>360</samples>
            <resolution>1</resolution>
            <min_angle>-3.141592</min_angle>
            <max_angle>3.141592</max_angle>
          </horizontal>
        </scan>
        <range>
          <min>0.10</min>
          <max>3.0</max>
          <resolution>0.05</resolution>
        </range>
        <noise>
          <type>gaussian</type>
          <!-- Noise parameters based on published spec for Hokuyo laser
               achieving "+-30mm" accuracy at range < 10m.  A mean of 0.0m and
               stddev of 0.01m will put 99.7% of samples within 0.03m of the true
               reading. -->
          <mean>0.0</mean>
          <stddev>0.01</stddev>
        </noise>
      </ray>
      <plugin name="gazebo_ros_head_hokuyo_controller" filename="libgazebo_ros_laser.so">
        <topicName>/scan</topicName>
        <frameName>lidar_link</frameName>
      </plugin>
    </sensor>
  </gazebo>





 <gazebo reference="L1_link">
    <kp>1000000.0</kp> <!-- kp and kd for rubber -->
    <kd>10.0</kd>
    <mu1>0.4</mu1> <!-- was 10 -->
    <mu2>1.0</mu2>
<fdir1>0 1 0</fdir1>
      <!-- how to get these into <surface><friction><ode>... ?
        slip1 0.5 /slip1 
         slip2 0 /slip2 
      -->
    <!-- fdir1 0 1 0 /fdir1 --> <!-- see http://github.com/MobileRobots/amr-ros-config/issues/6 -->
    <maxVel>1.0</maxVel>
    <minDepth>0.00</minDepth>
    <material value="Gazebo/Black" />
  </gazebo>


 <gazebo reference="R1_link">
    <kp>1000000.0</kp> <!-- kp and kd for rubber -->
    <kd>10.0</kd>
    <mu1>0.4</mu1> <!-- was 10 -->
    <mu2>1.0</mu2>
<fdir1>0 1 0</fdir1>
      <!-- how to get these into <surface><friction><ode>... ?
        slip1 0.5 /slip1 
         slip2 0 /slip2 
      -->
    <!-- fdir1 0 1 0 /fdir1 --> <!-- see http://github.com/MobileRobots/amr-ros-config/issues/6 -->
    <maxVel>1.0</maxVel>
    <minDepth>0.00</minDepth>
    <material value="Gazebo/Black" />
  </gazebo>


<gazebo reference="L2_link">
    <kp>1000000.0</kp> <!-- kp and kd for rubber -->
    <kd>10.0</kd>
    <mu1>0.4</mu1> <!-- was 10 -->
    <mu2>1.0</mu2>
    <fdir1>0 1 0</fdir1>
      <!-- how to get these into <surface><friction><ode>... ?
        slip1 0.5 /slip1 
         slip2 0 /slip2 
      -->
    <!-- fdir1 0 1 0 /fdir1 --> <!-- see http://github.com/MobileRobots/amr-ros-config/issues/6 -->
    <maxVel>1.0</maxVel>
    <minDepth>0.00</minDepth>
    <material value="Gazebo/Black" />
  </gazebo>

<gazebo reference="R2_link">
    <kp>1000000.0</kp> <!-- kp and kd for rubber -->
    <kd>10.0</kd>
    <mu1>0.4</mu1> <!-- was 10 -->
    <mu2>1.0</mu2>
<fdir1>0 1 0</fdir1>
      <!-- how to get these into <surface><friction><ode>... ?
        slip1 0.5 /slip1 
         slip2 0 /slip2 
      -->
    <!-- fdir1 0 1 0 /fdir1 --> <!-- see http://github.com/MobileRobots/amr-ros-config/issues/6 -->
    <maxVel>1.0</maxVel>
    <minDepth>0.00</minDepth>
    <material value="Gazebo/Black" />
  </gazebo>


 <gazebo reference="l1_link">
    <kp>1000000.0</kp> <!-- kp and kd for rubber -->
    <kd>100.0</kd>
    <mu1>0.4</mu1> <!-- was 10 -->
    <mu2>1.0</mu2>
<fdir1>0 1 0</fdir1>
      <!-- how to get these into <surface><friction><ode>... ?
        slip1 0.5 /slip1 
         slip2 0 /slip2 
      -->
    <!-- fdir1 0 1 0 /fdir1 --> <!-- see http://github.com/MobileRobots/amr-ros-config/issues/6 -->
    <maxVel>1.0</maxVel>
    <minDepth>0.00</minDepth>
    <!--<material value="Gazebo/Black" />-->
  </gazebo>

<gazebo reference="l2_link">
    <kp>1000000.0</kp> <!-- kp and kd for rubber -->
    <kd>100.0</kd>
    <mu1>0.4</mu1> <!-- was 10 -->
    <mu2>1.0</mu2>
<fdir1>0 1 0</fdir1>
      <!-- how to get these into <surface><friction><ode>... ?
        slip1 0.5 /slip1 
         slip2 0 /slip2 
      -->
    <!-- fdir1 0 1 0 /fdir1 --> <!-- see http://github.com/MobileRobots/amr-ros-config/issues/6 -->
    <maxVel>1.0</maxVel>
    <minDepth>0.00</minDepth>
    <!--<material value="Gazebo/Black" />-->
  </gazebo>

<gazebo reference="l3_link">
    <kp>1000000.0</kp> <!-- kp and kd for rubber -->
    <kd>100.0</kd>
    <mu1>0.4</mu1> <!-- was 10 -->
    <mu2>1.0</mu2>
<fdir1>0 1 0</fdir1>
      <!-- how to get these into <surface><friction><ode>... ?
        slip1 0.5 /slip1 
         slip2 0 /slip2 
      -->
    <!-- fdir1 0 1 0 /fdir1 --> <!-- see http://github.com/MobileRobots/amr-ros-config/issues/6 -->
    <maxVel>1.0</maxVel>
    <minDepth>0.00</minDepth>
    <!--<material value="Gazebo/Black" />-->
  </gazebo>
<gazebo reference="l4_link">
    <kp>1000000.0</kp> <!-- kp and kd for rubber -->
    <kd>1.0</kd>
    <mu1>0.4</mu1> <!-- was 10 -->
    <mu2>1.0</mu2>
<fdir1>0 1 0</fdir1>
      <!-- how to get these into <surface><friction><ode>... ?
        slip1 0.5 /slip1 
         slip2 0 /slip2 
      -->
    <!-- fdir1 0 1 0 /fdir1 --> <!-- see http://github.com/MobileRobots/amr-ros-config/issues/6 -->
    <maxVel>1.0</maxVel>
    <minDepth>0.00</minDepth>
    <!--<material value="Gazebo/Black" />-->
  </gazebo>
<gazebo reference="l5_link">
    <kp>1000000.0</kp> <!-- kp and kd for rubber -->
    <kd>100.0</kd>
    <mu1>0.4</mu1> <!-- was 10 -->
    <mu2>1.0</mu2>
<fdir1>0 1 0</fdir1>
      <!-- how to get these into <surface><friction><ode>... ?
        slip1 0.5 /slip1 
         slip2 0 /slip2 
      -->
    <!-- fdir1 0 1 0 /fdir1 --> <!-- see http://github.com/MobileRobots/amr-ros-config/issues/6 -->
    <maxVel>1.0</maxVel>
    <minDepth>0.00</minDepth>
    <!--<material value="Gazebo/Black" />-->
  </gazebo>
<gazebo reference="l6_link">
    <kp>1000000.0</kp> <!-- kp and kd for rubber -->
    <kd>100.0</kd>
    <mu1>0.4</mu1> <!-- was 10 -->
    <mu2>1.0</mu2>
<fdir1>0 1 0</fdir1>
      <!-- how to get these into <surface><friction><ode>... ?
        slip1 0.5 /slip1 
         slip2 0 /slip2 
      -->
    <!-- fdir1 0 1 0 /fdir1 --> <!-- see http://github.com/MobileRobots/amr-ros-config/issues/6 -->
    <maxVel>1.0</maxVel>
    <minDepth>0.00</minDepth>
    <!--<material value="Gazebo/Black" />-->
  </gazebo>
<gazebo reference="l7_link">
    <kp>1000000.0</kp> <!-- kp and kd for rubber -->
    <kd>100.0</kd>
    <mu1>0.4</mu1> <!-- was 10 -->
    <mu2>100.0</mu2>
<fdir1>0 1 0</fdir1>
      <!-- how to get these into <surface><friction><ode>... ?
        slip1 0.5 /slip1 
         slip2 0 /slip2 
      -->
    <!-- fdir1 0 1 0 /fdir1 --> <!-- see http://github.com/MobileRobots/amr-ros-config/issues/6 -->
    <maxVel>1.0</maxVel>
    <minDepth>0.00</minDepth>
    <!--<material value="Gazebo/Black" />-->
  </gazebo>
<gazebo reference="l8_link">
    <kp>1000000.0</kp> <!-- kp and kd for rubber -->
    <kd>100.0</kd>
    <mu1>0.4</mu1> <!-- was 10 -->
    <mu2>100.0</mu2>
<fdir1>0 1 0</fdir1>
      <!-- how to get these into <surface><friction><ode>... ?
        slip1 0.5 /slip1 
         slip2 0 /slip2 
      -->
    <!-- fdir1 0 1 0 /fdir1 --> <!-- see http://github.com/MobileRobots/amr-ros-config/issues/6 -->
    <maxVel>1.0</maxVel>
    <minDepth>0.00</minDepth>
    <!--<material value="Gazebo/Black" />-->
  </gazebo>
<gazebo reference="l9_link">
    <kp>1000000.0</kp> <!-- kp and kd for rubber -->
    <kd>1.0</kd>
    <mu1>0.4</mu1> <!-- was 10 -->
    <mu2>1.0</mu2>
<fdir1>0 1 0</fdir1>
      <!-- how to get these into <surface><friction><ode>... ?
        slip1 0.5 /slip1 
         slip2 0 /slip2 
      -->
    <!-- fdir1 0 1 0 /fdir1 --> <!-- see http://github.com/MobileRobots/amr-ros-config/issues/6 -->
    <maxVel>1.0</maxVel>
    <minDepth>0.00</minDepth>
    <!--<material value="Gazebo/Black" />-->
  </gazebo>
<gazebo reference="l10_link">
    <kp>1000000.0</kp> <!-- kp and kd for rubber -->
    <kd>100.0</kd>
    <mu1>0.4</mu1> <!-- was 10 -->
    <mu2>1.0</mu2>
<fdir1>0 1 0</fdir1>
      <!-- how to get these into <surface><friction><ode>... ?
        slip1 0.5 /slip1 
         slip2 0 /slip2 
      -->
    <!-- fdir1 0 1 0 /fdir1 --> <!-- see http://github.com/MobileRobots/amr-ros-config/issues/6 -->
    <maxVel>1.0</maxVel>
    <minDepth>0.00</minDepth>
    <!--<material value="Gazebo/Black" />-->
  </gazebo>
<gazebo reference="l11_link">
    <kp>1000000.0</kp> <!-- kp and kd for rubber -->
    <kd>100.0</kd>
    <mu1>0.7</mu1> <!-- was 10 -->
    <mu2>1.0</mu2>
<fdir1>0 1 0</fdir1>
      <!-- how to get these into <surface><friction><ode>... ?
        slip1 0.5 /slip1 
         slip2 0 /slip2 
      -->
    <!-- fdir1 0 1 0 /fdir1 --> <!-- see http://github.com/MobileRobots/amr-ros-config/issues/6 -->
    <maxVel>1.0</maxVel>
    <minDepth>0.00</minDepth>
    <!--<material value="Gazebo/Black" />-->
  </gazebo>
<gazebo reference="l12_link">
    <kp>1000000.0</kp> <!-- kp and kd for rubber -->
    <kd>100.0</kd>
    <mu1>0.4</mu1> <!-- was 10 -->
    <mu2>1.0</mu2>
<fdir1>0 1 0</fdir1>
      <!-- how to get these into <surface><friction><ode>... ?
        slip1 0.5 /slip1 
         slip2 0 /slip2 
      -->
    <!-- fdir1 0 1 0 /fdir1 --> <!-- see http://github.com/MobileRobots/amr-ros-config/issues/6 -->
    <maxVel>1.0</maxVel>
    <minDepth>0.00</minDepth>
    <!--<material value="Gazebo/Black" />-->
  </gazebo>



<gazebo reference="r1_link">
    <kp>1000000.0</kp> <!-- kp and kd for rubber -->
    <kd>100.0</kd>
    <mu1>0.4</mu1> <!-- was 10 -->
    <mu2>1.0</mu2>
<fdir1>0 1 0</fdir1>
      <!-- how to get these into <surface><friction><ode>... ?
        slip1 0.5 /slip1 
         slip2 0 /slip2 
      -->
    <!-- fdir1 0 1 0 /fdir1 --> <!-- see http://github.com/MobileRobots/amr-ros-config/issues/6 -->
    <maxVel>1.0</maxVel>
    <minDepth>0.00</minDepth>
    <!--<material value="Gazebo/Black" />-->
  </gazebo>
<gazebo reference="r2_link">
    <kp>1000000.0</kp> <!-- kp and kd for rubber -->
    <kd>100.0</kd>
    <mu1>0.4</mu1> <!-- was 10 -->
    <mu2>1.0</mu2>
<fdir1>0 1 0</fdir1>
      <!-- how to get these into <surface><friction><ode>... ?
        slip1 0.5 /slip1 
         slip2 0 /slip2 
      -->
    <!-- fdir1 0 1 0 /fdir1 --> <!-- see http://github.com/MobileRobots/amr-ros-config/issues/6 -->
    <maxVel>1.0</maxVel>
    <minDepth>0.00</minDepth>
    <!--<material value="Gazebo/Black" />-->
  </gazebo>
<gazebo reference="r3_link">
    <kp>1000000.0</kp> <!-- kp and kd for rubber -->
    <kd>100.0</kd>
    <mu1>0.4</mu1> <!-- was 10 -->
    <mu2>1.0</mu2>
<fdir1>0 1 0</fdir1>
      <!-- how to get these into <surface><friction><ode>... ?
        slip1 0.5 /slip1 
         slip2 0 /slip2 
      -->
    <!-- fdir1 0 1 0 /fdir1 --> <!-- see http://github.com/MobileRobots/amr-ros-config/issues/6 -->
    <maxVel>1.0</maxVel>
    <minDepth>0.00</minDepth>
    <!--<material value="Gazebo/Black" />-->
  </gazebo>
<gazebo reference="r4_link">
    <kp>1000000.0</kp> <!-- kp and kd for rubber -->
    <kd>100.0</kd>
    <mu1>0.4</mu1> <!-- was 10 -->
    <mu2>1.0</mu2>
<fdir1>0 1 0</fdir1>
      <!-- how to get these into <surface><friction><ode>... ?
        slip1 0.5 /slip1 
         slip2 0 /slip2 
      -->
    <!-- fdir1 0 1 0 /fdir1 --> <!-- see http://github.com/MobileRobots/amr-ros-config/issues/6 -->
    <maxVel>1.0</maxVel>
    <minDepth>0.00</minDepth>
    <!--<material value="Gazebo/Black" />-->
  </gazebo>
<gazebo reference="r5_link">
    <kp>1000000.0</kp> <!-- kp and kd for rubber -->
    <kd>100.0</kd>
    <mu1>0.4</mu1> <!-- was 10 -->
    <mu2>1.0</mu2>
<fdir1>0 1 0</fdir1>
      <!-- how to get these into <surface><friction><ode>... ?
        slip1 0.5 /slip1 
         slip2 0 /slip2 
      -->
    <!-- fdir1 0 1 0 /fdir1 --> <!-- see http://github.com/MobileRobots/amr-ros-config/issues/6 -->
    <maxVel>1.0</maxVel>
    <minDepth>0.00</minDepth>
    <!--<material value="Gazebo/Black" />-->
  </gazebo>
<gazebo reference="r6_link">
    <kp>1000000.0</kp> <!-- kp and kd for rubber -->
    <kd>100.0</kd>
    <mu1>0.4</mu1> <!-- was 10 -->
    <mu2>1.0</mu2>
<fdir1>0 1 0</fdir1>
      <!-- how to get these into <surface><friction><ode>... ?
        slip1 0.5 /slip1 
         slip2 0 /slip2 
      -->
    <!-- fdir1 0 1 0 /fdir1 --> <!-- see http://github.com/MobileRobots/amr-ros-config/issues/6 -->
    <maxVel>1.0</maxVel>
    <minDepth>0.00</minDepth>
    <!--<material value="Gazebo/Black" />-->
  </gazebo>
<gazebo reference="r7_link">
    <kp>1000000.0</kp> <!-- kp and kd for rubber -->
    <kd>100.0</kd>
    <mu1>0.4</mu1> <!-- was 10 -->
    <mu2>100.0</mu2>
<fdir1>0 1 0</fdir1>
      <!-- how to get these into <surface><friction><ode>... ?
        slip1 0.5 /slip1 
         slip2 0 /slip2 
      -->
    <!-- fdir1 0 1 0 /fdir1 --> <!-- see http://github.com/MobileRobots/amr-ros-config/issues/6 -->
    <maxVel>1.0</maxVel>
    <minDepth>0.00</minDepth>
    <!--<material value="Gazebo/Black" />-->
  </gazebo>
<gazebo reference="r8_link">
    <kp>1000000.0</kp> <!-- kp and kd for rubber -->
    <kd>100.0</kd>
    <mu1>0.4</mu1> <!-- was 10 -->
    <mu2>100.0</mu2>
<fdir1>0 1 0</fdir1>
      <!-- how to get these into <surface><friction><ode>... ?
        slip1 0.5 /slip1 
         slip2 0 /slip2 
      -->
    <!-- fdir1 0 1 0 /fdir1 --> <!-- see http://github.com/MobileRobots/amr-ros-config/issues/6 -->
    <maxVel>1.0</maxVel>
    <minDepth>0.00</minDepth>
    <!--<material value="Gazebo/Black" />-->
  </gazebo>
<gazebo reference="r9_link">
    <kp>1000000.0</kp> <!-- kp and kd for rubber -->
    <kd>100.0</kd>
    <mu1>0.4</mu1> <!-- was 10 -->
    <mu2>1.0</mu2>
<fdir1>0 1 0</fdir1>
      <!-- how to get these into <surface><friction><ode>... ?
        slip1 0.5 /slip1 
         slip2 0 /slip2 
      -->
    <!-- fdir1 0 1 0 /fdir1 --> <!-- see http://github.com/MobileRobots/amr-ros-config/issues/6 -->
    <maxVel>1.0</maxVel>
    <minDepth>0.00</minDepth>
    <!--<material value="Gazebo/Black" />-->
  </gazebo>
<gazebo reference="r10_link">
    <kp>1000000.0</kp> <!-- kp and kd for rubber -->
    <kd>100.0</kd>
    <mu1>0.4</mu1> <!-- was 10 -->
    <mu2>1.0</mu2>
<fdir1>0 1 0</fdir1>
      <!-- how to get these into <surface><friction><ode>... ?
        slip1 0.5 /slip1 
         slip2 0 /slip2 
      -->
    <!-- fdir1 0 1 0 /fdir1 --> <!-- see http://github.com/MobileRobots/amr-ros-config/issues/6 -->
    <maxVel>1.0</maxVel>
    <minDepth>0.00</minDepth>
    <!--<material value="Gazebo/Black" />-->
  </gazebo>
<gazebo reference="r11_link">
    <kp>1000000.0</kp> <!-- kp and kd for rubber -->
    <kd>100.0</kd>
    <mu1>0.4</mu1> <!-- was 10 -->
    <mu2>1.0</mu2>
<fdir1>0 1 0</fdir1>
      <!-- how to get these into <surface><friction><ode>... ?
        slip1 0.5 /slip1 
         slip2 0 /slip2 
      -->
    <!-- fdir1 0 1 0 /fdir1 --> <!-- see http://github.com/MobileRobots/amr-ros-config/issues/6 -->
    <maxVel>1.0</maxVel>
    <minDepth>0.00</minDepth>
    <!--<material value="Gazebo/Black" />-->
  </gazebo>
<gazebo reference="r12_link">
    <kp>1000000.0</kp> <!-- kp and kd for rubber -->
    <kd>100.0</kd>
    <mu1>0.4</mu1> <!-- was 10 -->
    <mu2>1.0</mu2>
<fdir1>0 1 0</fdir1>
      <!-- how to get these into <surface><friction><ode>... ?
        slip1 0.5 /slip1 
         slip2 0 /slip2 
      -->
    <!-- fdir1 0 1 0 /fdir1 --> <!-- see http://github.com/MobileRobots/amr-ros-config/issues/6 -->
    <maxVel>1.0</maxVel>
    <minDepth>0.00</minDepth>
    <!--<material value="Gazebo/Black" />-->
  </gazebo>






</robot>
